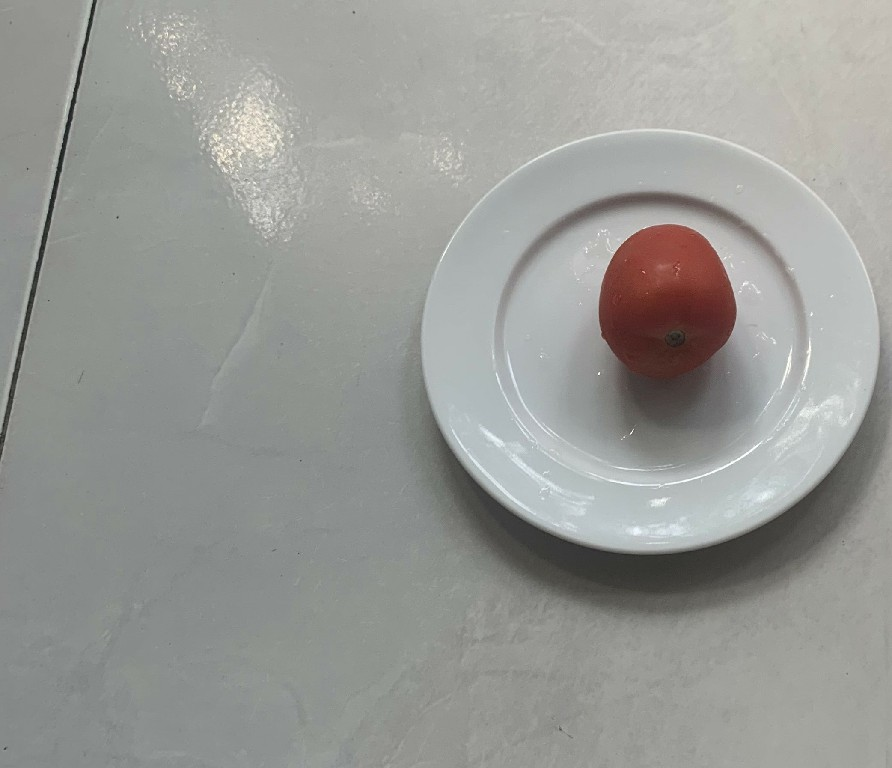OK: (593, 219, 735, 386)
